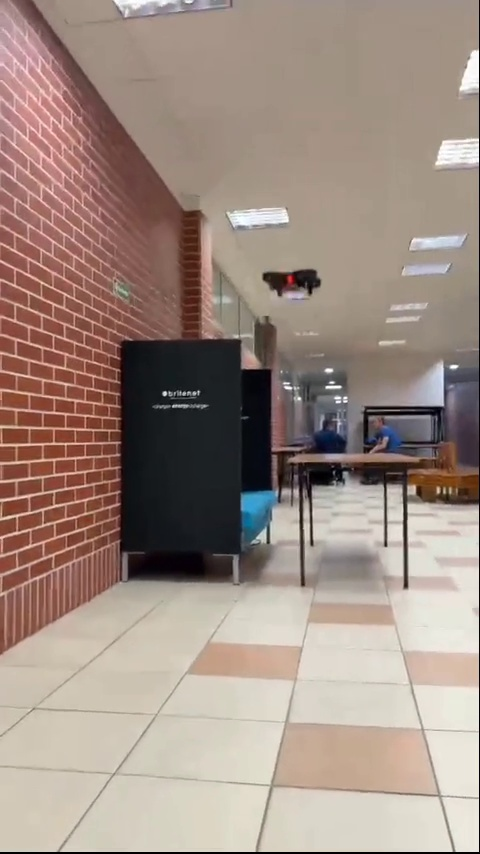drone: (263, 267, 325, 299)
no vest: (362, 408, 405, 455), (313, 415, 349, 453)
